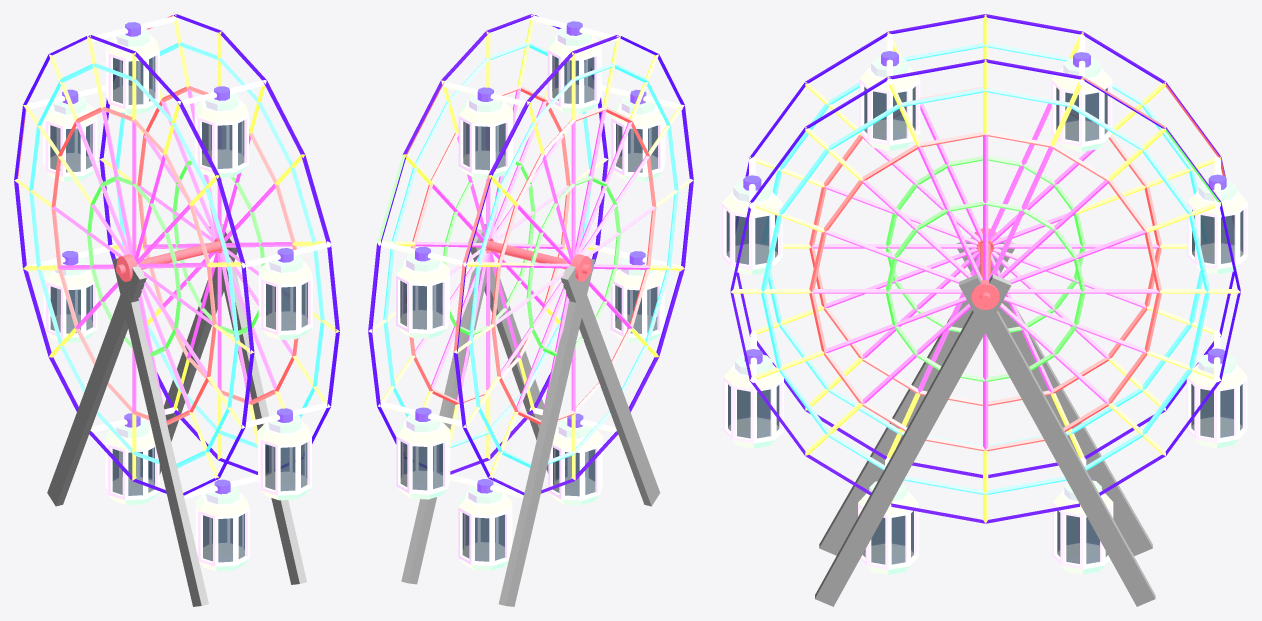
Rendered from ferris_wheel.glb.
The picture shows the model from 3 angles, left to right: view 1: azimuth 30°, elevation 25°; view 2: azimuth 150°, elevation 25°; view 3: azimuth 270°, elevation 25°; orthographic projection. The views are drawn at different scales.
Parts seen in each view (by area): view 1: wheel, stand.002, Carriage, Carriage.007, Carriage.006, stand.001, Carriage.001, Carriage.002, Carriage.005, Carriage.003, Carriage.004, stand (+1 smaller); view 2: wheel, stand.001, Carriage.004, Carriage.003, Carriage.005, stand.002, Carriage.002, Carriage.001, Carriage.006, Carriage, Carriage.007, Stand (+1 smaller); view 3: wheel, Stand, stand, Carriage.004, Carriage.007, Carriage, Carriage.003, Carriage.001, Carriage.002, stand.001, stand.002, Carriage.005 (+1 smaller).
Part boxes in pixels (box(x1,y1,x2,y2)): wheel: box(14, 14, 339, 495); stand.002: box(112, 258, 208, 606); Carriage: box(241, 242, 331, 339); Carriage.007: box(241, 402, 330, 500); Carriage.006: box(184, 475, 257, 571); stand.001: box(47, 264, 146, 506); Carriage.001: box(177, 80, 266, 177); Carriage.002: box(90, 16, 178, 114); Carriage.005: box(90, 407, 178, 505); Carriage.003: box(26, 84, 114, 181); Carriage.004: box(26, 244, 114, 342); stand: box(209, 224, 306, 584); wheel: box(368, 14, 693, 495); stand.001: box(498, 258, 594, 606); Carriage.004: box(378, 401, 466, 499); Carriage.003: box(378, 241, 466, 338); Carriage.005: box(450, 474, 523, 570); stand.002: box(560, 264, 660, 506); Carriage.002: box(441, 81, 529, 179); Carriage.001: box(529, 15, 618, 113); Carriage.006: box(529, 407, 616, 505); Carriage: box(593, 85, 682, 181); Carriage.007: box(592, 244, 681, 342); Stand: box(401, 224, 498, 584); wheel: box(730, 14, 1240, 523); Stand: box(959, 274, 1155, 606); stand: box(815, 274, 1011, 606); Carriage.004: box(1186, 330, 1247, 448); Carriage.007: box(723, 331, 783, 448); Carriage: box(722, 157, 782, 274); Carriage.003: box(1187, 156, 1247, 274); Carriage.001: box(859, 33, 920, 150); Carriage.002: box(1051, 35, 1112, 151); stand.001: box(956, 237, 1152, 555); stand.002: box(819, 237, 1015, 555); Carriage.005: box(1052, 457, 1113, 574).
Bounding box in the file's own units: 12.52 × 50.62 × 44.49.
